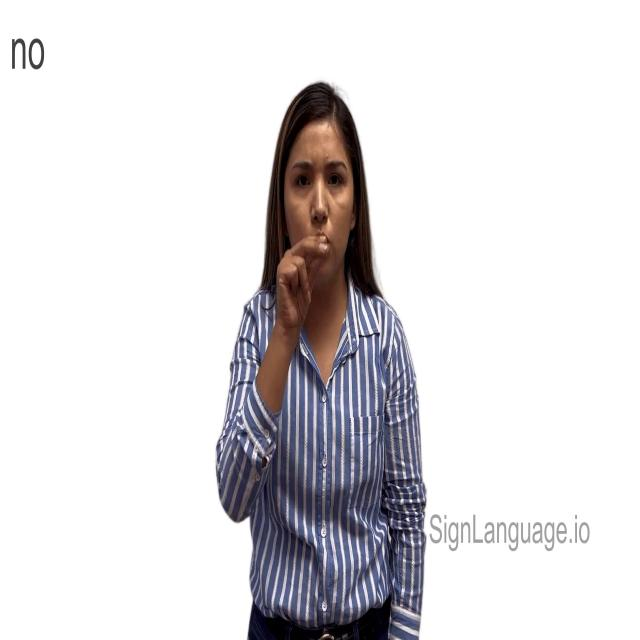no: (274, 231, 328, 330)
